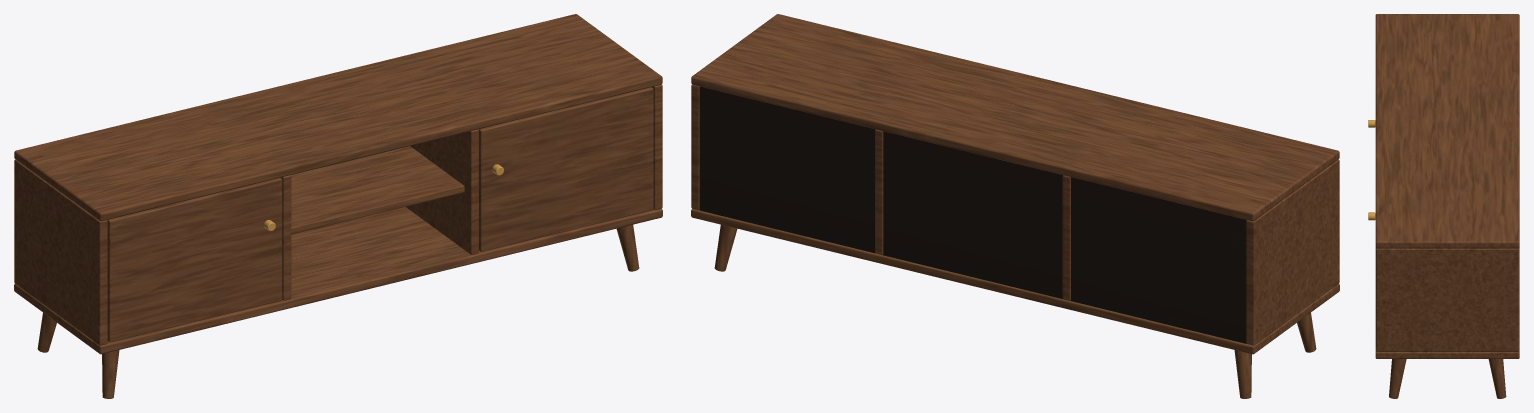
Rendered from tv_stand.glb.
The picture shows the model from 3 angles, left to right: view 1: azimuth 30°, elevation 25°; view 2: azimuth 150°, elevation 25°; view 3: azimuth 270°, elevation 25°; orthographic projection. The views are drawn at different scales.
Visible parts, largest first — view 1: Cube; view 2: Cube; view 3: Cube.
Part boxes in pixels (left/top/right/bottom): Cube: left=14, top=14, right=662, bottom=398; Cube: left=691, top=14, right=1339, bottom=398; Cube: left=1368, top=14, right=1519, bottom=398.
Bounding box in the file's own units: 1.5 × 0.5023 × 0.42.
1 material, 1 textured.
